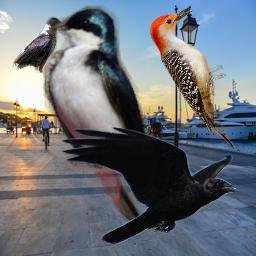Crow: (60, 125, 239, 244), (11, 15, 64, 74)
Swallow: (42, 5, 179, 226)
Woodpecker: (149, 6, 236, 152)
